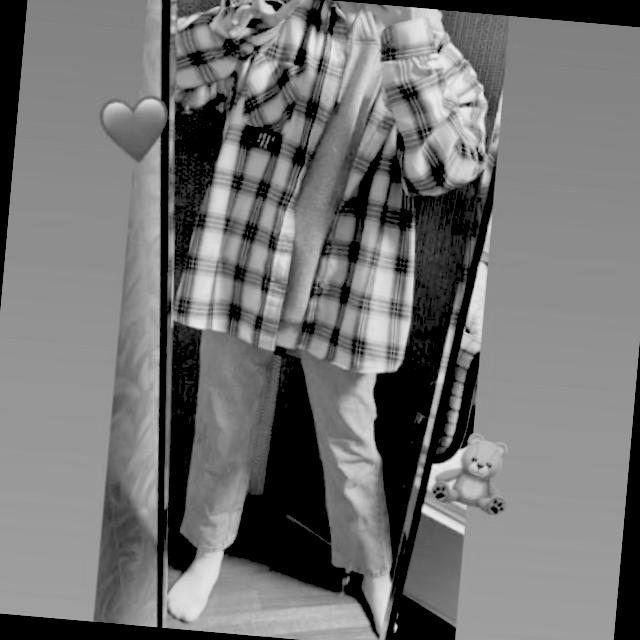denimpants: (175, 322, 412, 582)
shirt: (144, 0, 501, 379)
